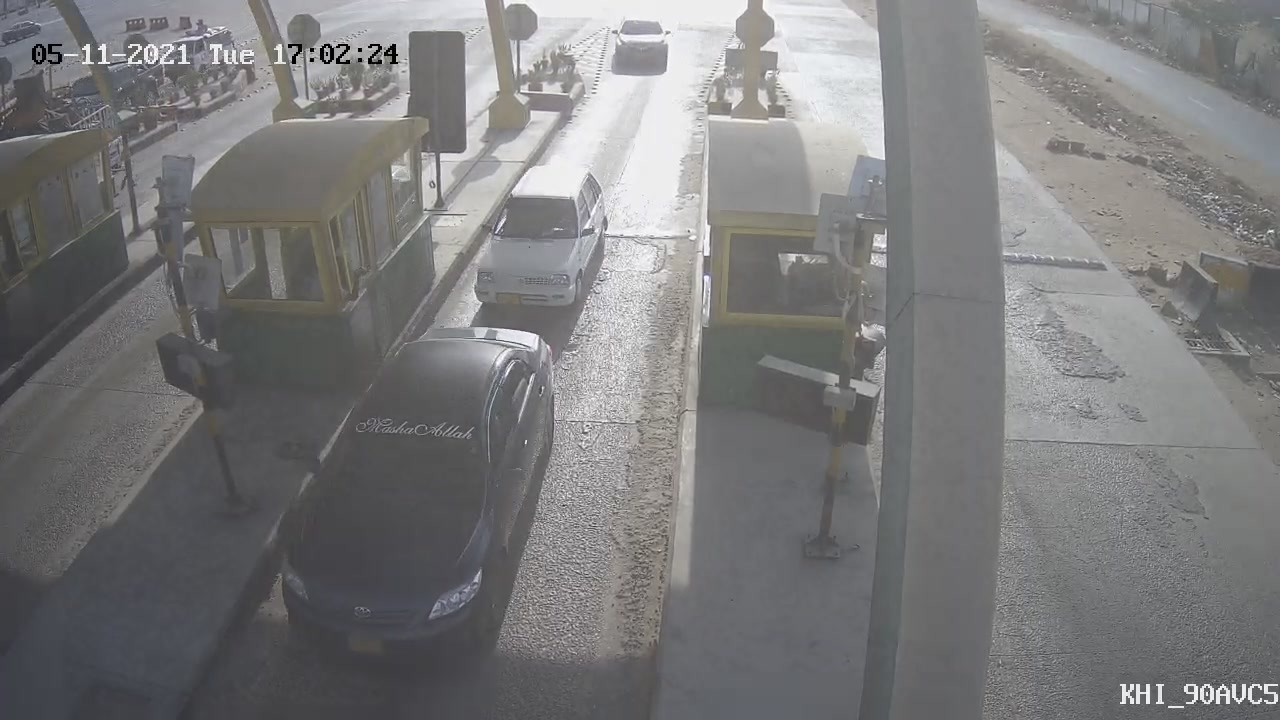F1: (455, 146, 631, 329)
